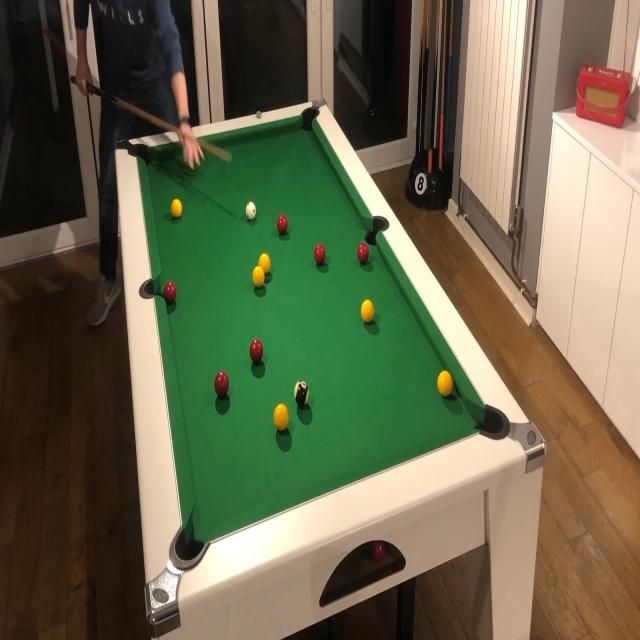Ball: (274, 404, 289, 432), (248, 338, 264, 364), (214, 372, 229, 398), (294, 381, 309, 407), (438, 371, 452, 398), (361, 300, 374, 324), (164, 281, 176, 304), (258, 253, 271, 274), (253, 266, 265, 288), (357, 243, 369, 264), (314, 243, 325, 265), (277, 216, 288, 236), (171, 199, 182, 217), (245, 202, 255, 220)
Billiard table: (113, 98, 545, 636)
